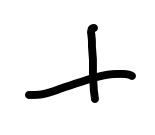plus: (25, 25, 137, 104)
